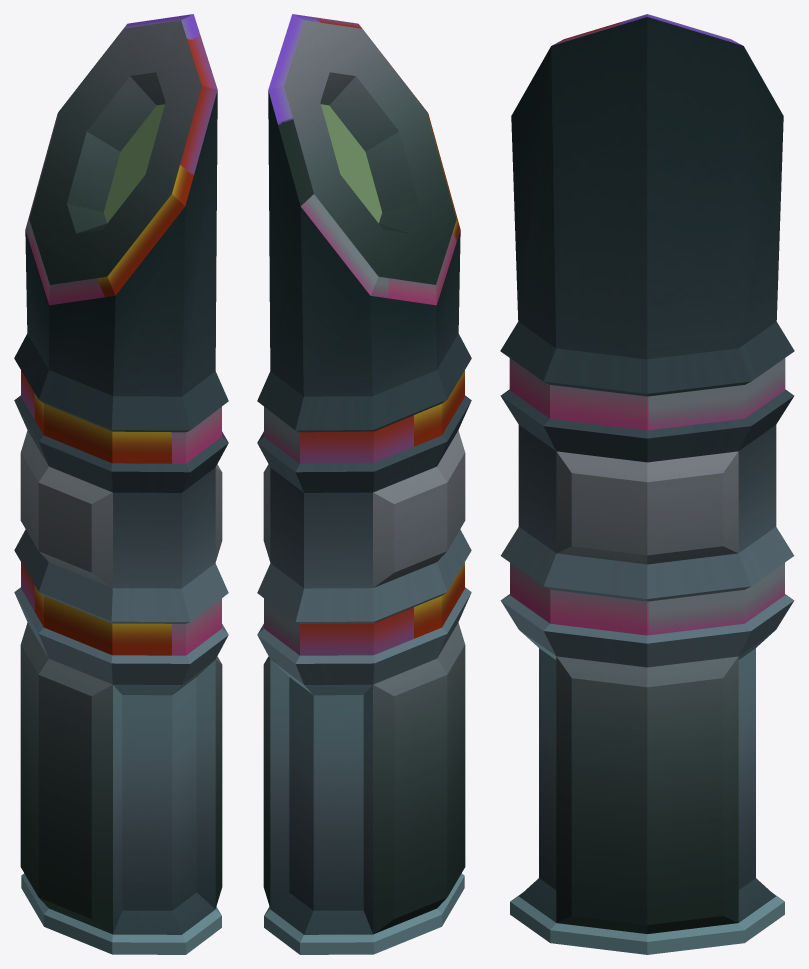
The model's file is alien_hive_tower.glb.
3 views of the same model, side by side, from view 1: azimuth 30°, elevation 25°; view 2: azimuth 150°, elevation 25°; view 3: azimuth 270°, elevation 25° (orthographic). The views are drawn at different scales.
Visible parts, largest first — view 1: Sky_structure; view 2: Sky_structure; view 3: Sky_structure.
Boxes of the visible parts, x1,y1,x2,y2 form: Sky_structure: (14,14,228,954); Sky_structure: (257,14,471,954); Sky_structure: (500,14,794,954).
Bounding box in the file's own units: 1.78 × 9 × 2.57.
1 material, 1 textured.
